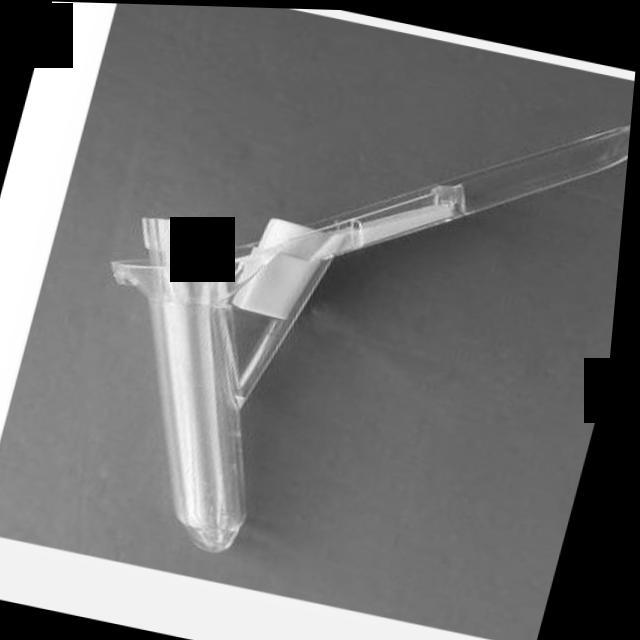Protoscope: (41, 13, 640, 620)
